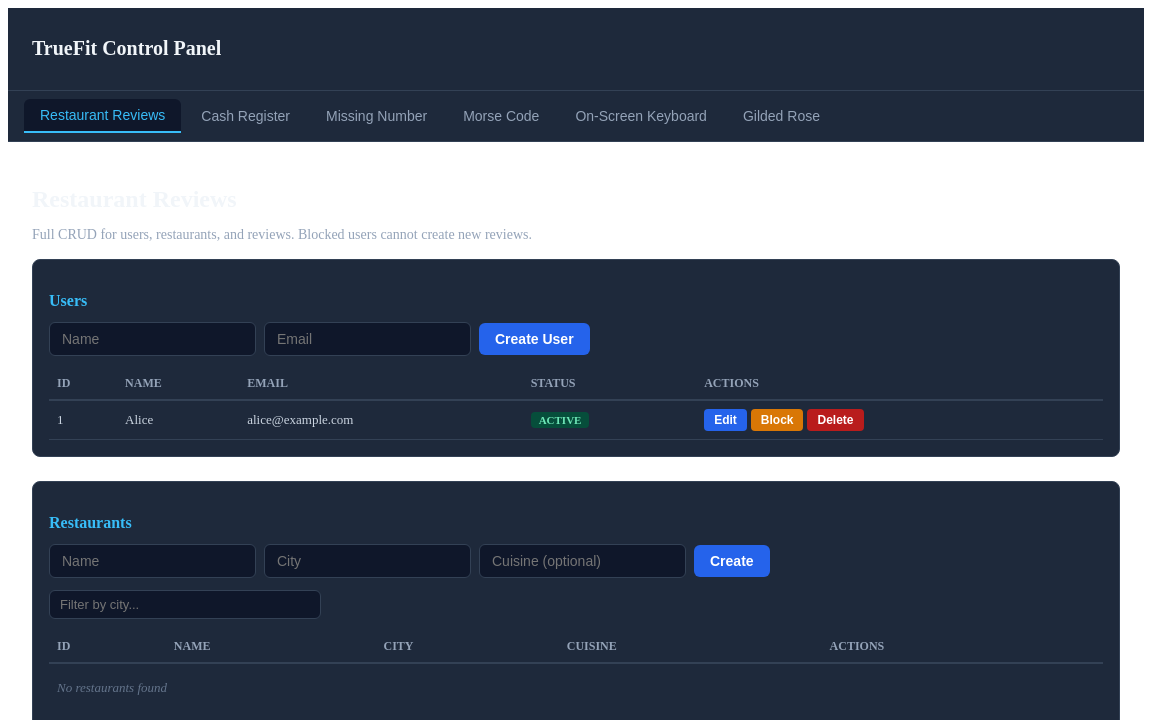
Test: ReviewsPanel — user table › inline edit — Cancel reverts without saving
Expected: the text "Alice" is shown, x1=117 y1=400 x2=239 y2=439
Click the button "Edit".
click(725, 420)  # box x1=704 y1=409 x2=747 y2=431
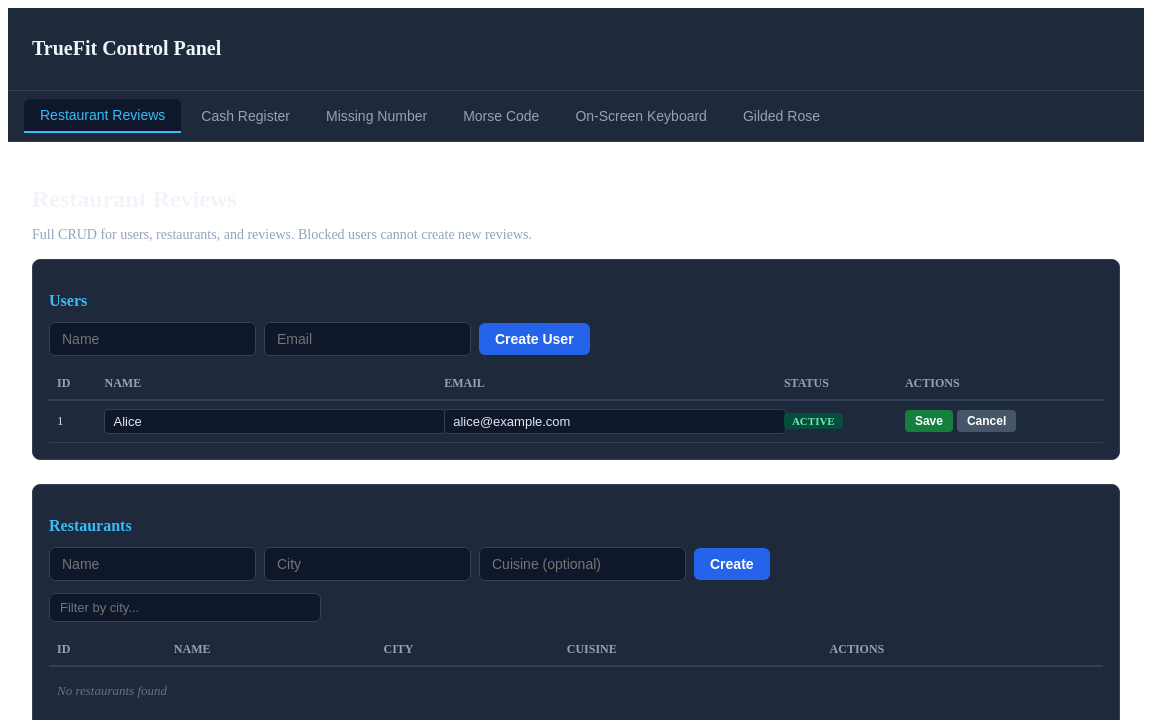
Click the button "Cancel".
click(987, 421)  # box x1=957 y1=410 x2=1016 y2=432
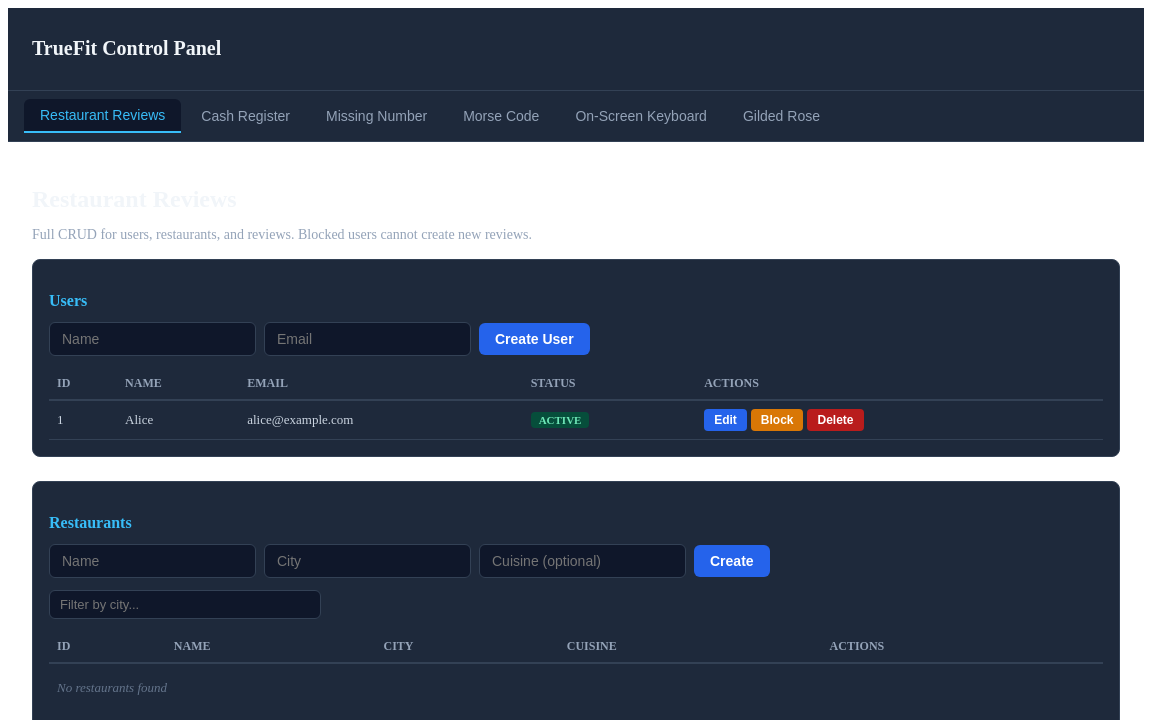
Expected: the text "Alice" is shown, x1=117 y1=400 x2=239 y2=439
